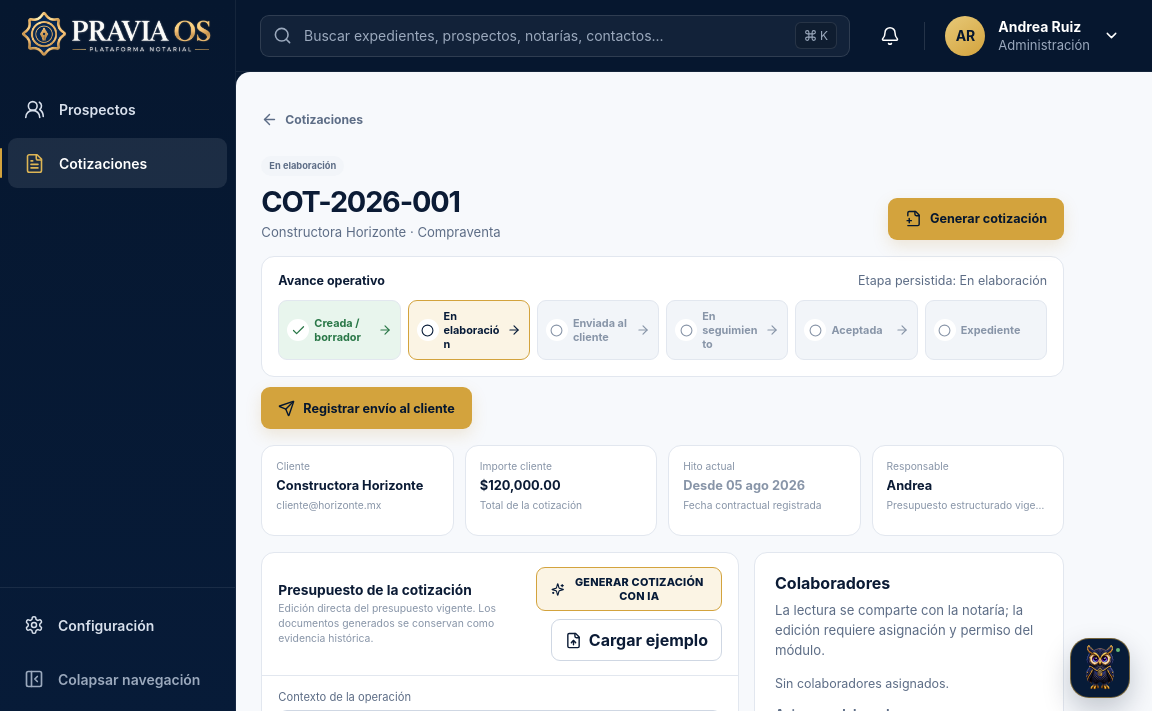
Cotizaciones › registra envío manual sin afirmar entrega del proveedor
Expected: the heading "COT-2026-001" is shown, left=261, top=184, right=460, bottom=219
Click the button "Registrar envío al cliente": (367, 408) left=261, top=387, right=472, bottom=429
(page scrolled)
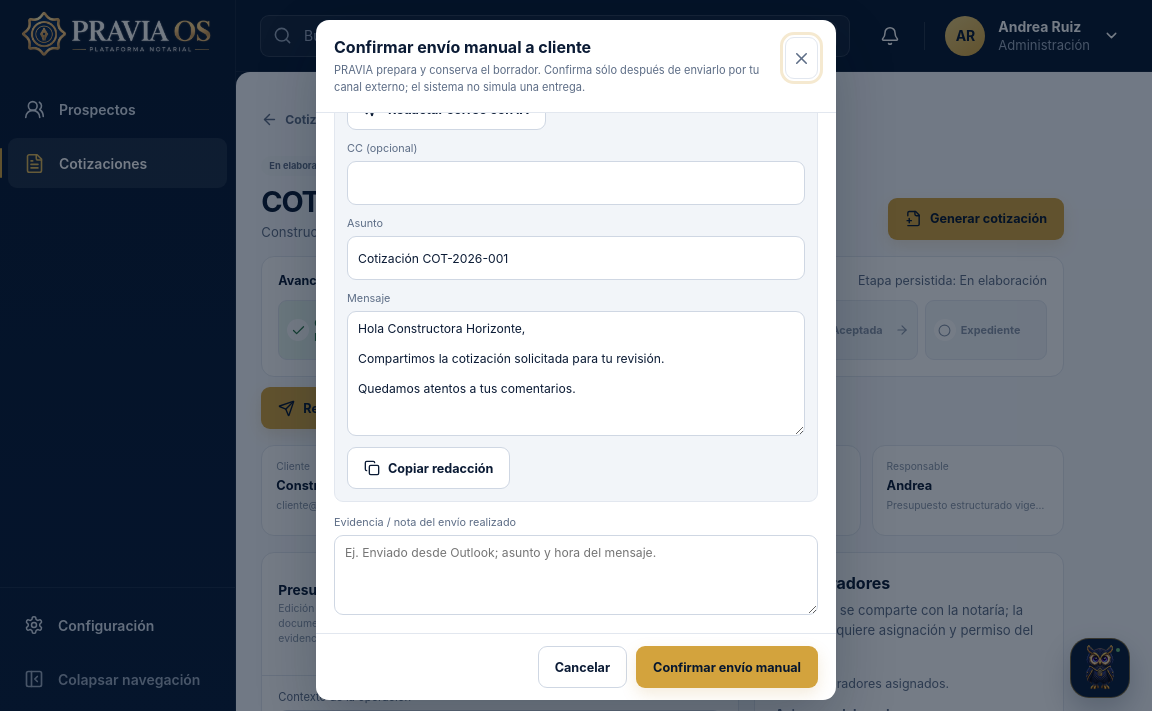
Result: the text "no simula una entrega" is shown at left=334, top=63, right=759, bottom=94
In the text box labelled "Evidencia / nota del envío realizado": (576, 575) left=334, top=535, right=818, bottom=615, type "Enviado desde Outlook a las 10:00."
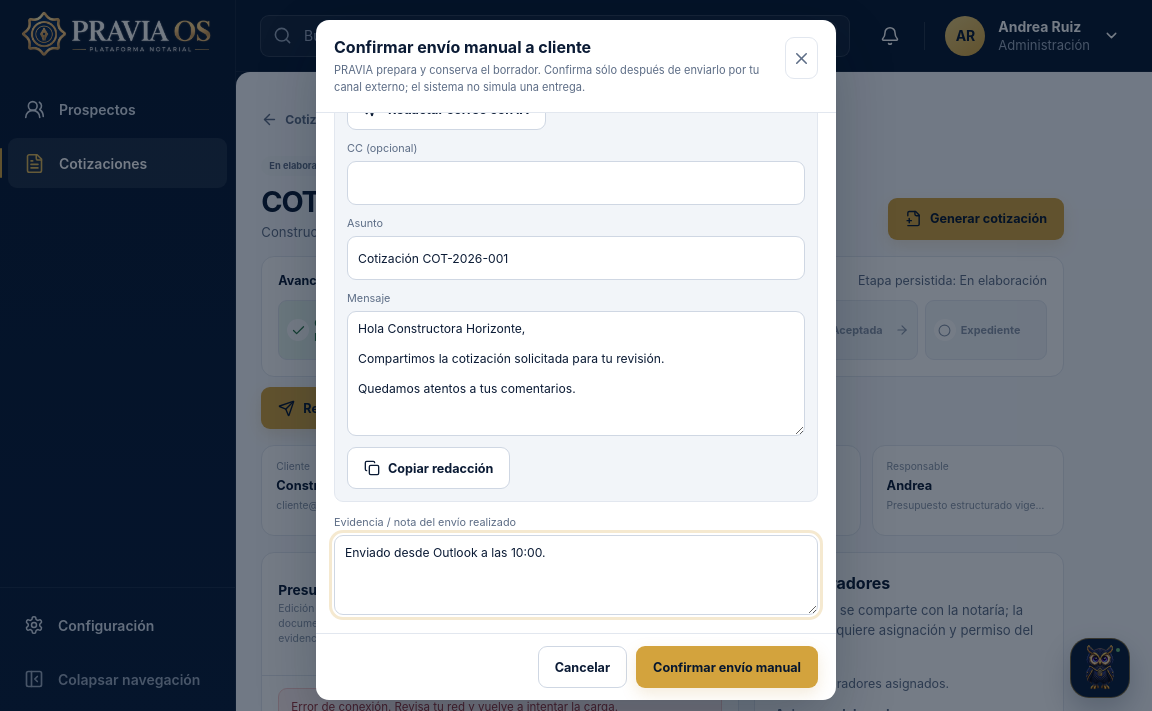
Click the button "Confirmar envío manual": (727, 667) left=636, top=646, right=818, bottom=688
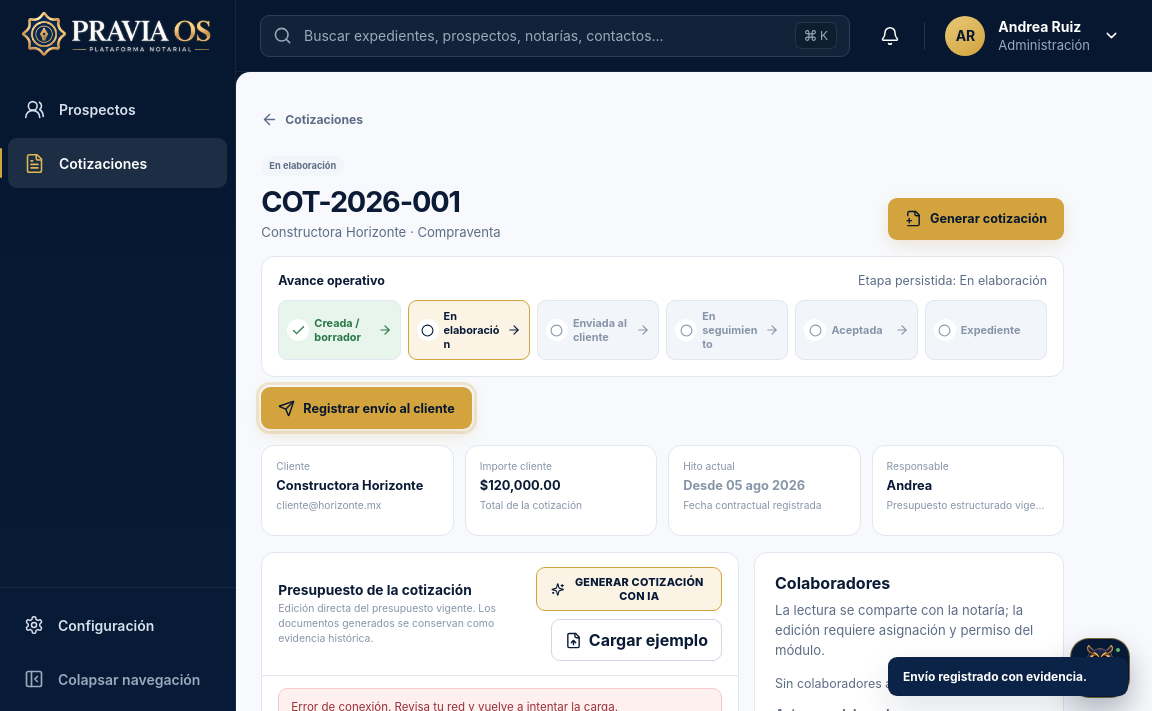
Result: the text "Envío registrado con evidencia." is shown at left=888, top=657, right=1128, bottom=696
